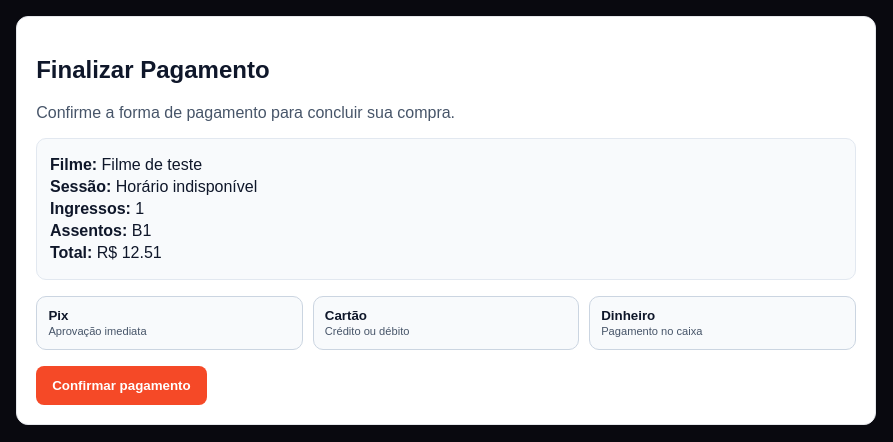
Test: informa que a outra aba pagou antes da confirmação sem enviar POST
Click the radio button labelled "Pix Aprovação imediata".
click(97, 331)  # box [36,296,303,350]
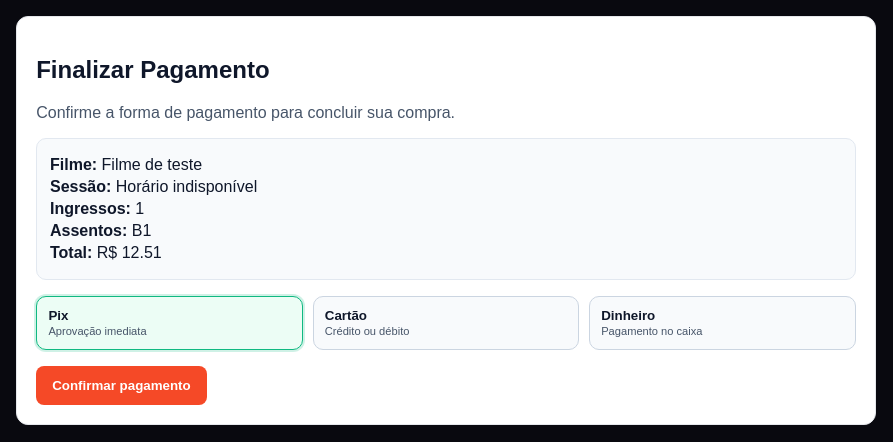
Click the button "Confirmar pagamento".
click(121, 386)  # box [36,366,207,405]
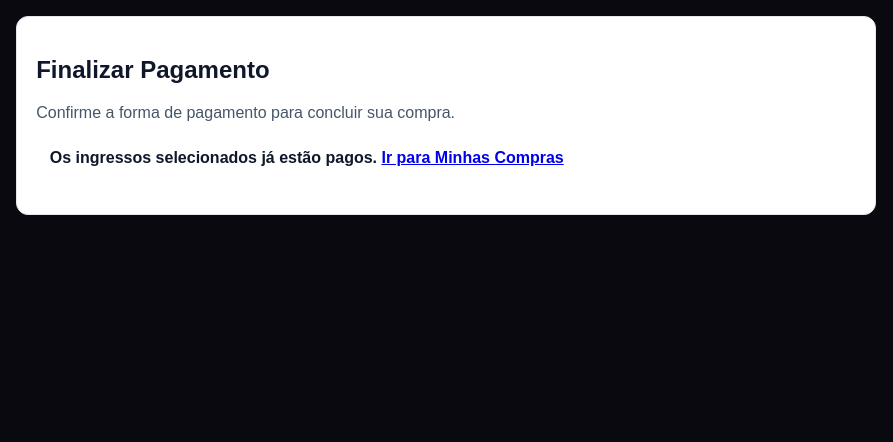
Result: the text "Os ingressos selecionados já estão pagos." is shown at [50,149,377,166]
Result: the link "Ir para Minhas Compras" is shown at [382,149,564,166]
Result: the button "Confirmar pagamento" is gone
